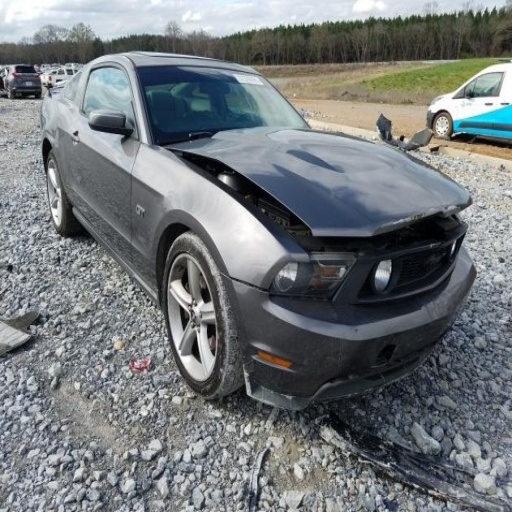scratch: (251, 355, 297, 372)
